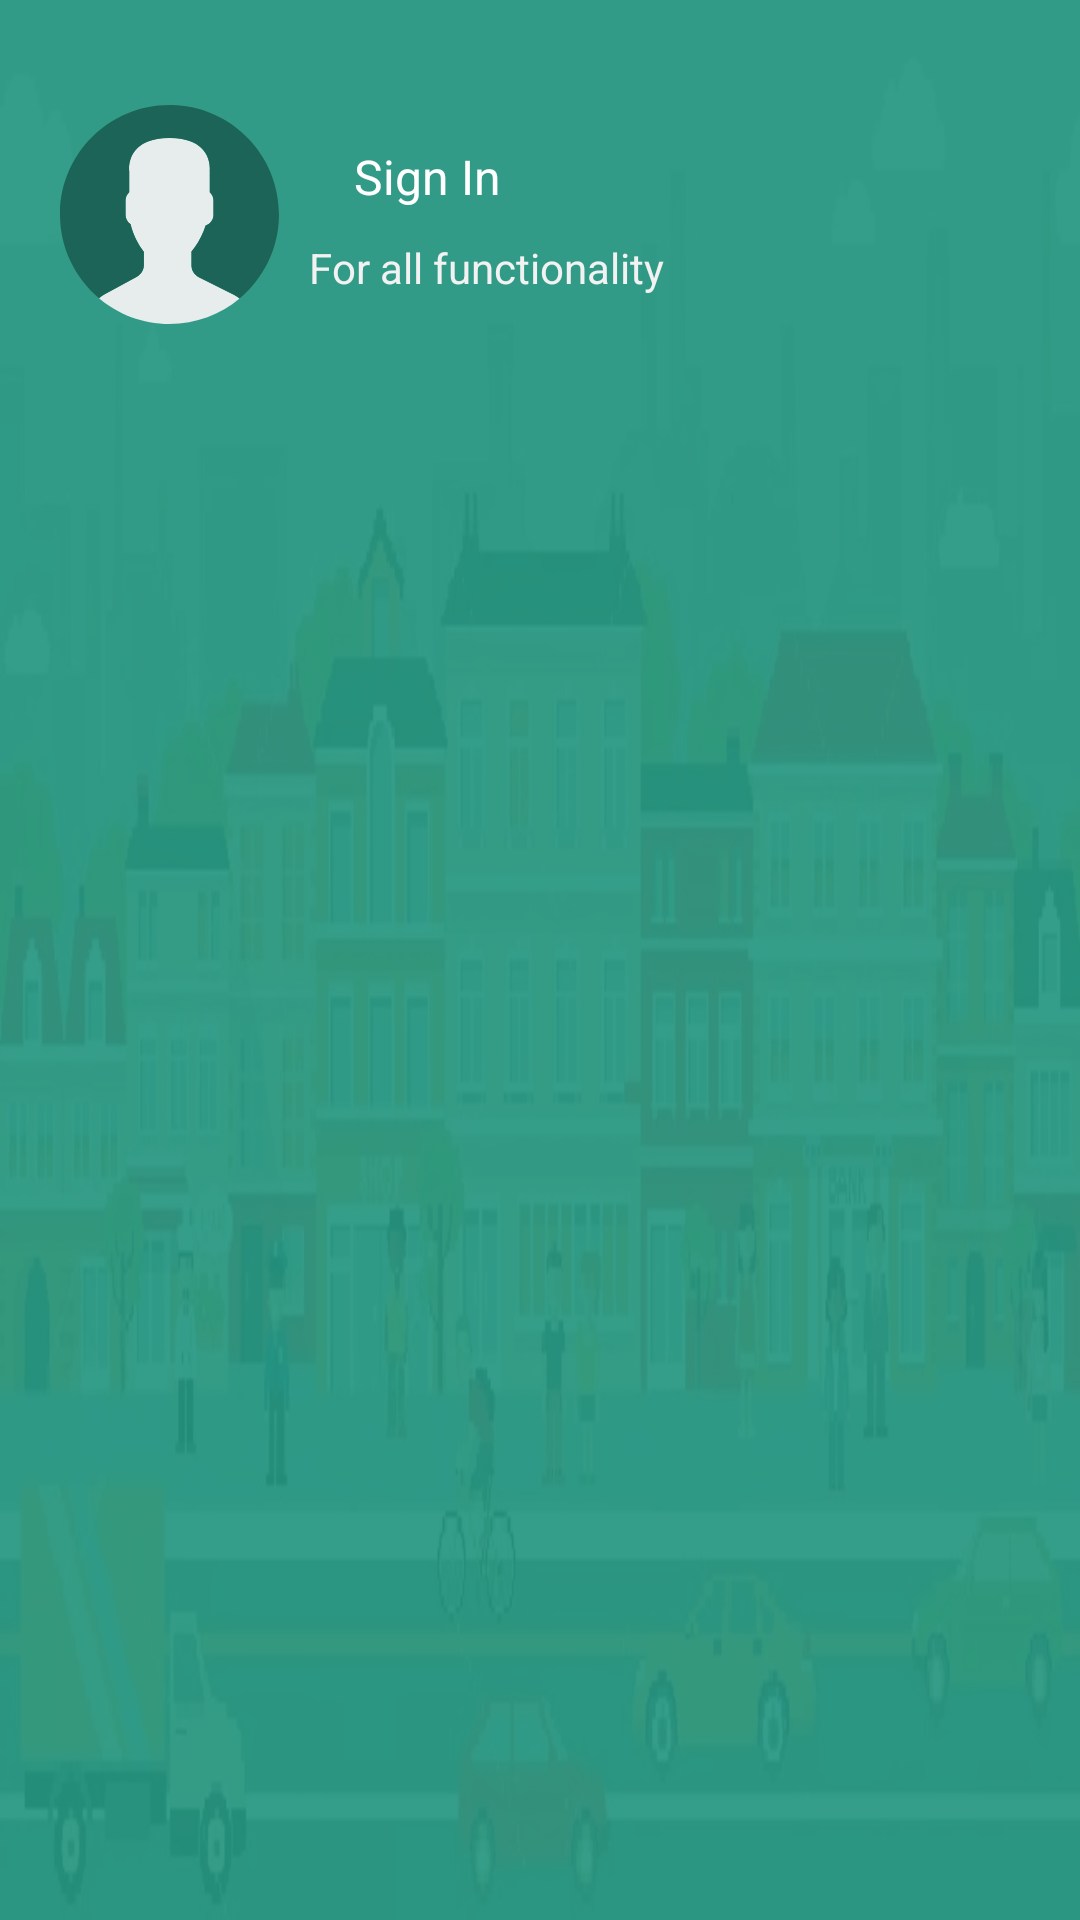

Screen size 1080 x 1920. Icon name, then its box in pixels as (x1, y1, x2, y2):
userprofile: (60, 105, 279, 324)
